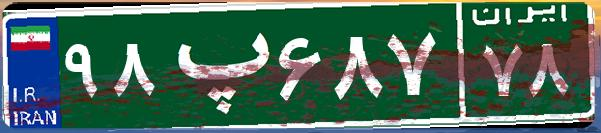6: (273, 28, 330, 110)
7: (385, 28, 445, 110), (475, 38, 525, 113)
8: (330, 28, 385, 110), (110, 28, 158, 105), (525, 38, 570, 115)
9: (57, 26, 110, 107)
پ: (158, 15, 273, 115)
